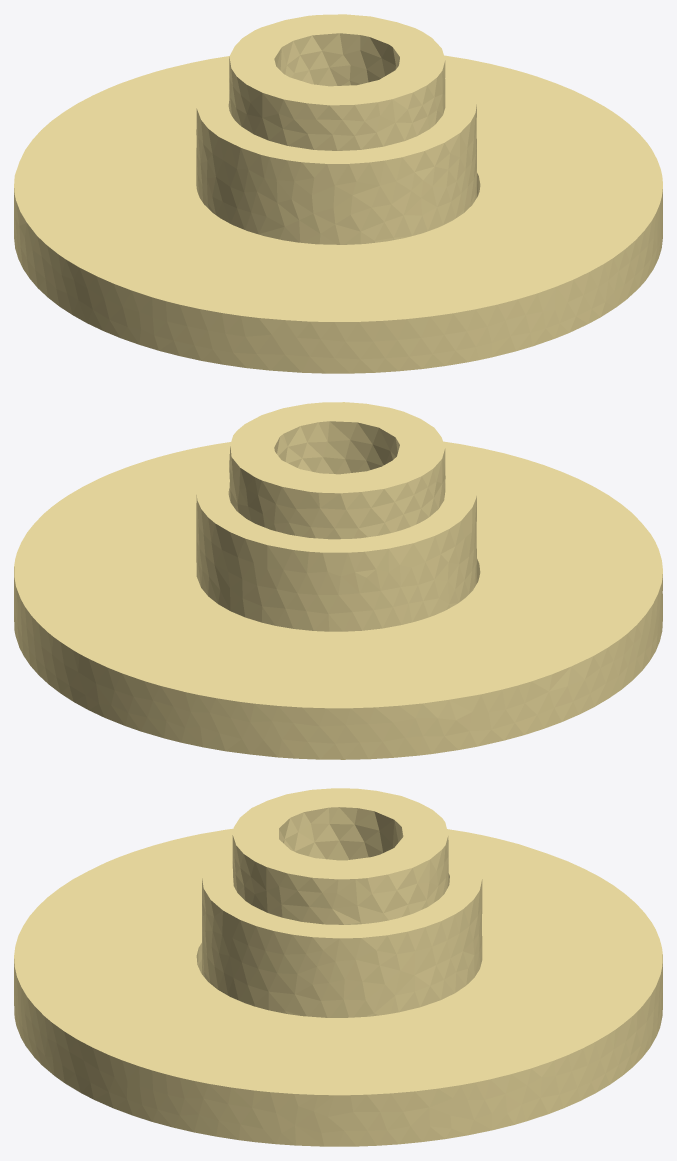
File: input.gltf
The picture shows the model from 3 angles, top to bottom: view 1: azimuth 30°, elevation 25°; view 2: azimuth 150°, elevation 25°; view 3: azimuth 270°, elevation 25°; orthographic projection.
Parts seen in each view (by area): view 1: Renderer Node; view 2: Renderer Node; view 3: Renderer Node.
Part boxes in pixels (x1=…): Renderer Node: x1=14, y1=14, x2=662, y2=373; Renderer Node: x1=14, y1=402, x2=662, y2=759; Renderer Node: x1=14, y1=788, x2=662, y2=1146.
Size of the model in its own units: 1.52 by 0.4531 by 1.52.
